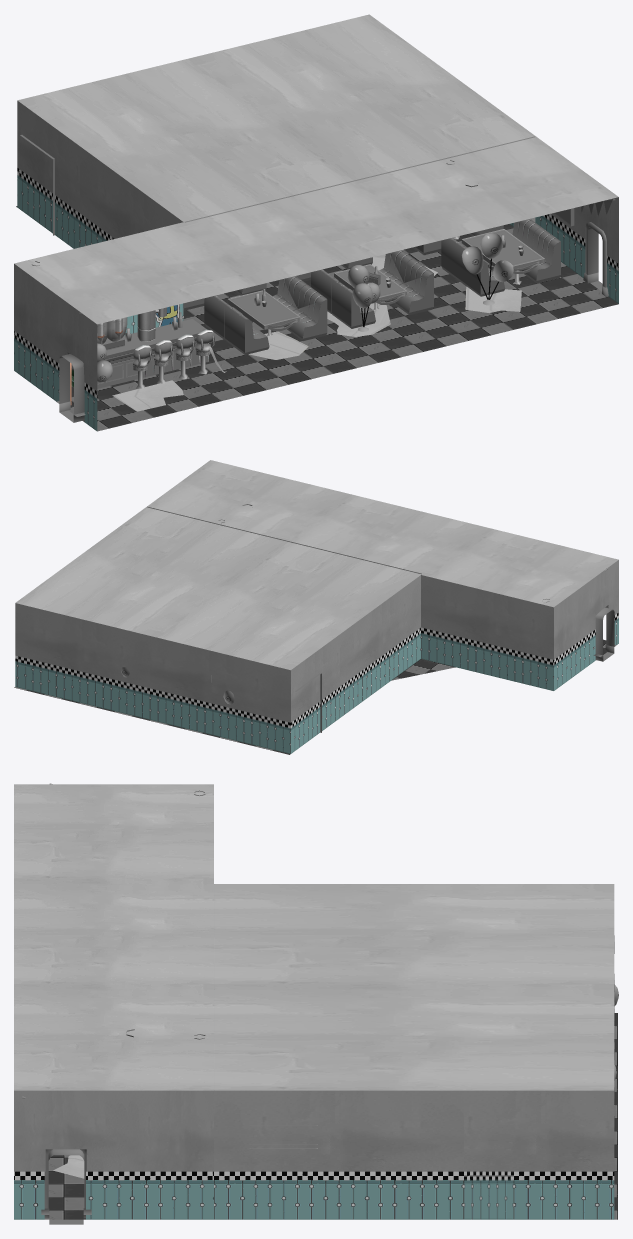
The model's file is MSH_Cafeteria_L3_R3_AnniversaryParty_optimized.fbx.
3 renders of one model, top to bottom at view 1: azimuth 30°, elevation 25°; view 2: azimuth 150°, elevation 25°; view 3: azimuth 270°, elevation 25°, orthographic. The views are drawn at different scales.
Visible parts, largest first — view 1: lightmap0, lightmap2, lightmap1, MSH_Cafeteria_L3_R3_PartyObjects02; view 2: lightmap0, lightmap1, lightmap2; view 3: lightmap0, lightmap1.
Boxes of the visible parts, bbox=[...] form: lightmap0: bbox=[14, 14, 618, 431]; lightmap2: bbox=[20, 135, 574, 405]; lightmap1: bbox=[59, 199, 615, 422]; MSH_Cafeteria_L3_R3_PartyObjects02: bbox=[112, 254, 521, 411]; lightmap0: bbox=[14, 460, 618, 754]; lightmap1: bbox=[121, 567, 614, 704]; lightmap2: bbox=[147, 504, 549, 732]; lightmap0: bbox=[14, 784, 617, 1219]; lightmap1: bbox=[22, 783, 618, 1224].
Bounding box in the file's own units: 30.91 × 5.94 × 24.96.
